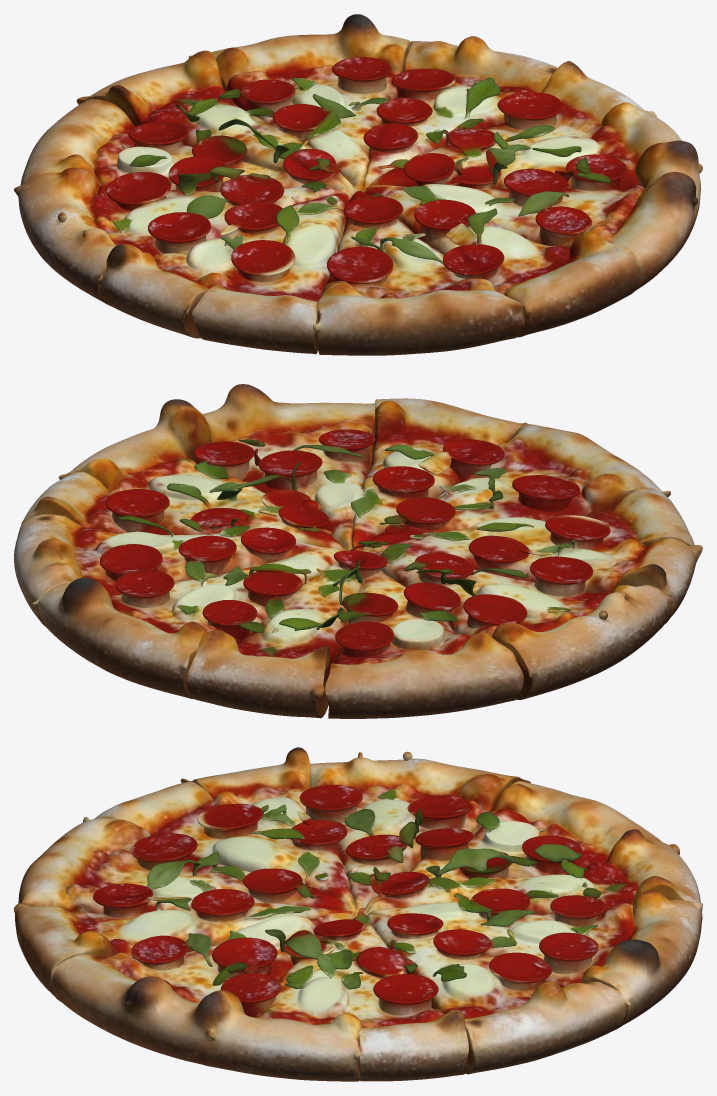
The model's file is onion-bacon.glb.
3 renders of one model, top to bottom at view 1: azimuth 30°, elevation 25°; view 2: azimuth 150°, elevation 25°; view 3: azimuth 270°, elevation 25°, orthographic.
Parts seen in each view (by area): view 1: tripo_node_9214210d-82d8-4c8c-bd53-7596c3fb026a; view 2: tripo_node_9214210d-82d8-4c8c-bd53-7596c3fb026a; view 3: tripo_node_9214210d-82d8-4c8c-bd53-7596c3fb026a.
Boxes of the visible parts, left/top/right/bottom form: tripo_node_9214210d-82d8-4c8c-bd53-7596c3fb026a: left=14, top=14, right=702, bottom=355; tripo_node_9214210d-82d8-4c8c-bd53-7596c3fb026a: left=14, top=384, right=702, bottom=718; tripo_node_9214210d-82d8-4c8c-bd53-7596c3fb026a: left=14, top=747, right=702, bottom=1081.
Size of the model in its own units: 0.38 by 0.0463 by 0.3787.
1 material, 1 textured.
